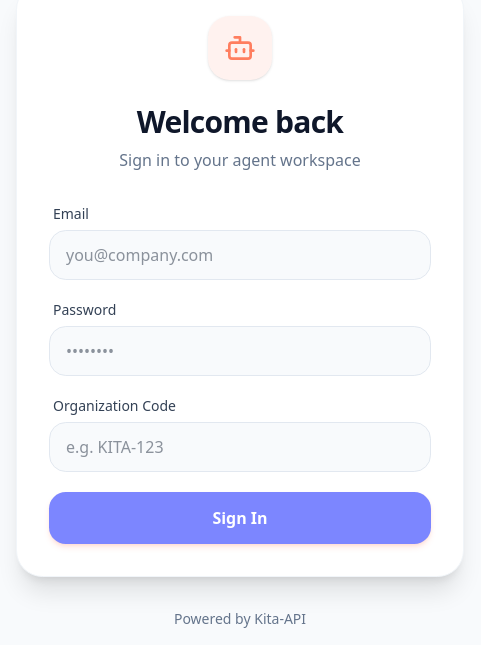
Test: the login page › the submit button › enables once everything is filled
Type "someone@example.com" into the field labelled "Email" at (240, 255), box [49,230,431,280]
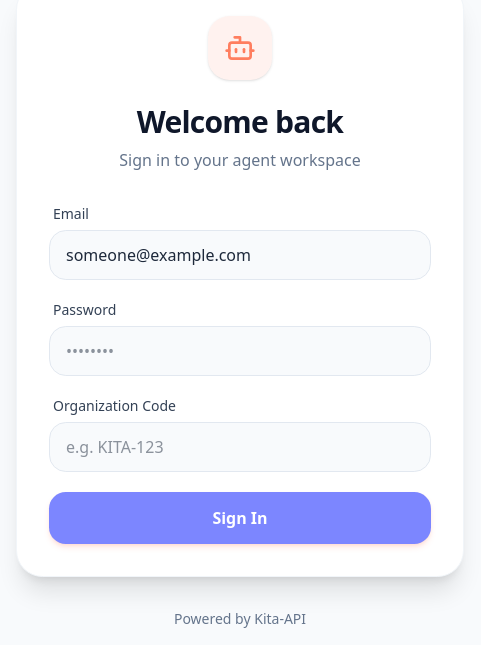
Type "hunter2" into the password field labelled "Password" at (240, 351), box [49,326,431,376]
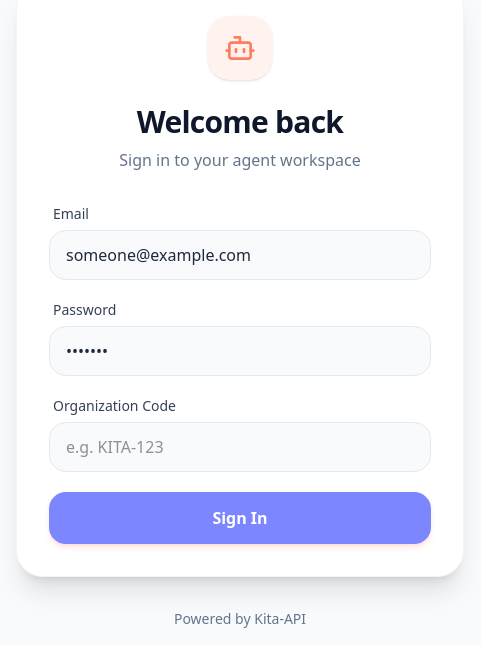
Type "KITA-123" into the field labelled "Organization Code" at (240, 447), box [49,422,431,472]
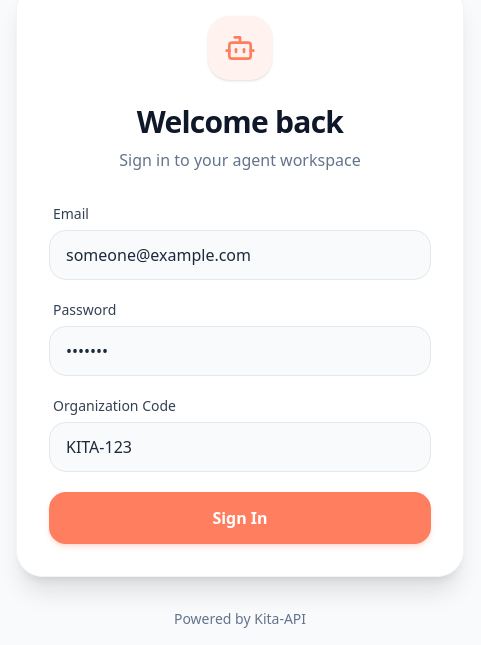
Expected: the button "Sign In" is enabled, [49,492,431,544]
